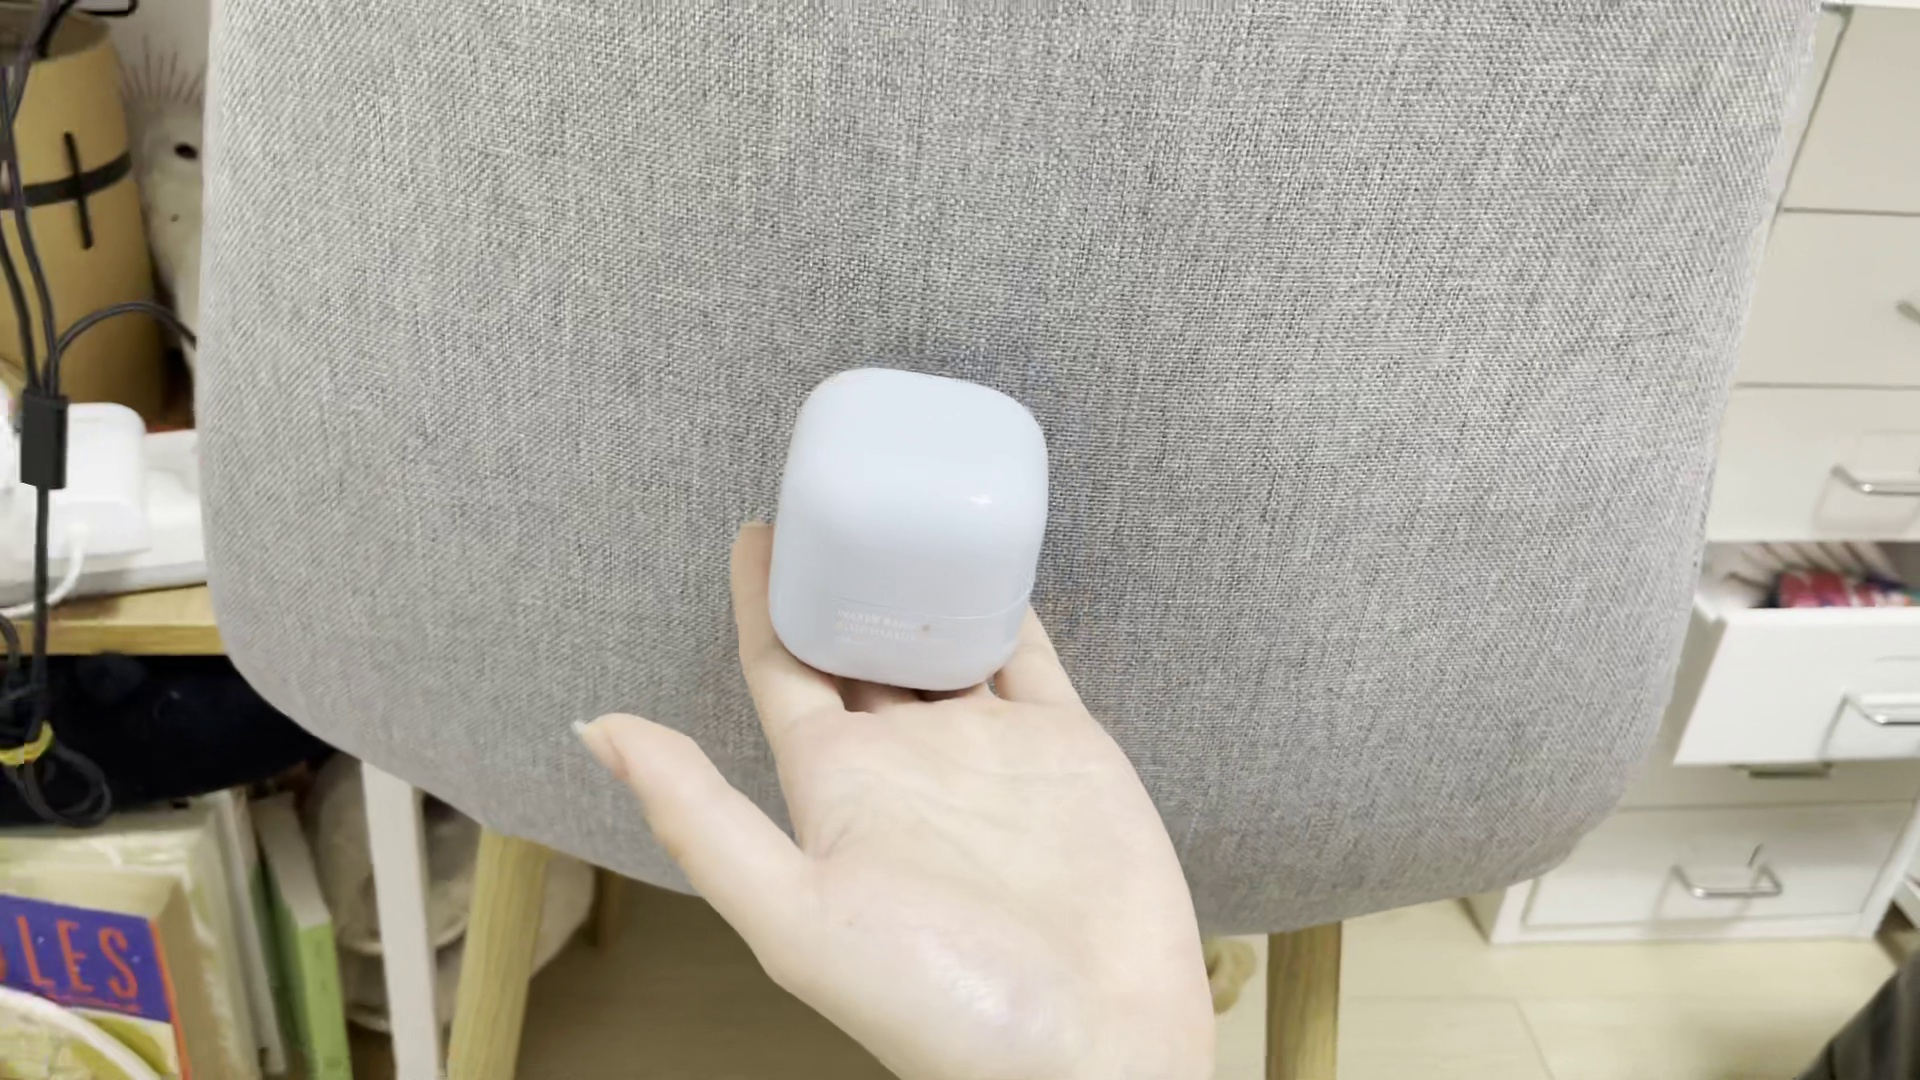cream: (770, 368, 1044, 698)
